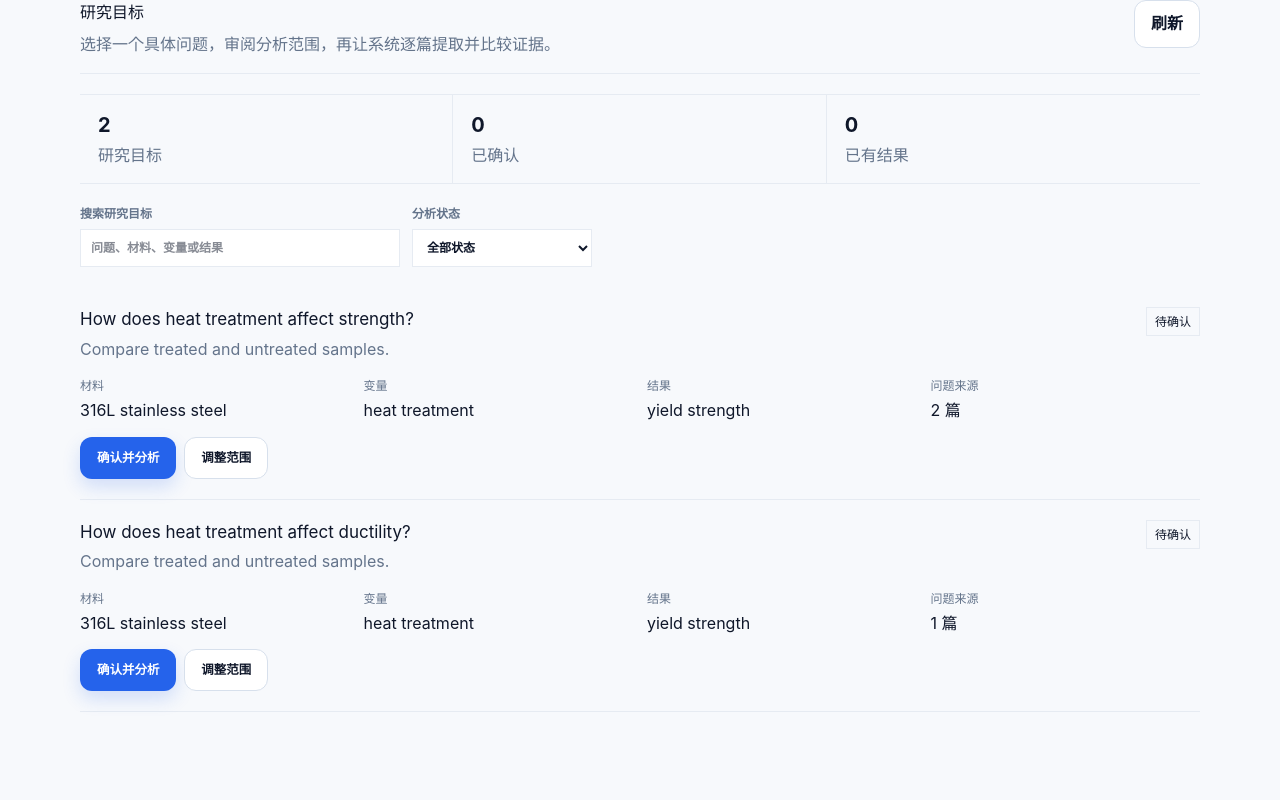
it: collections/[id]/objectives/+page.svelte › edits only one Objective paper scope with searchable bounded results
Click the button "调整范围" below "How does heat treatment affect strength?": [226, 458] box left=184, top=437, right=268, bottom=479
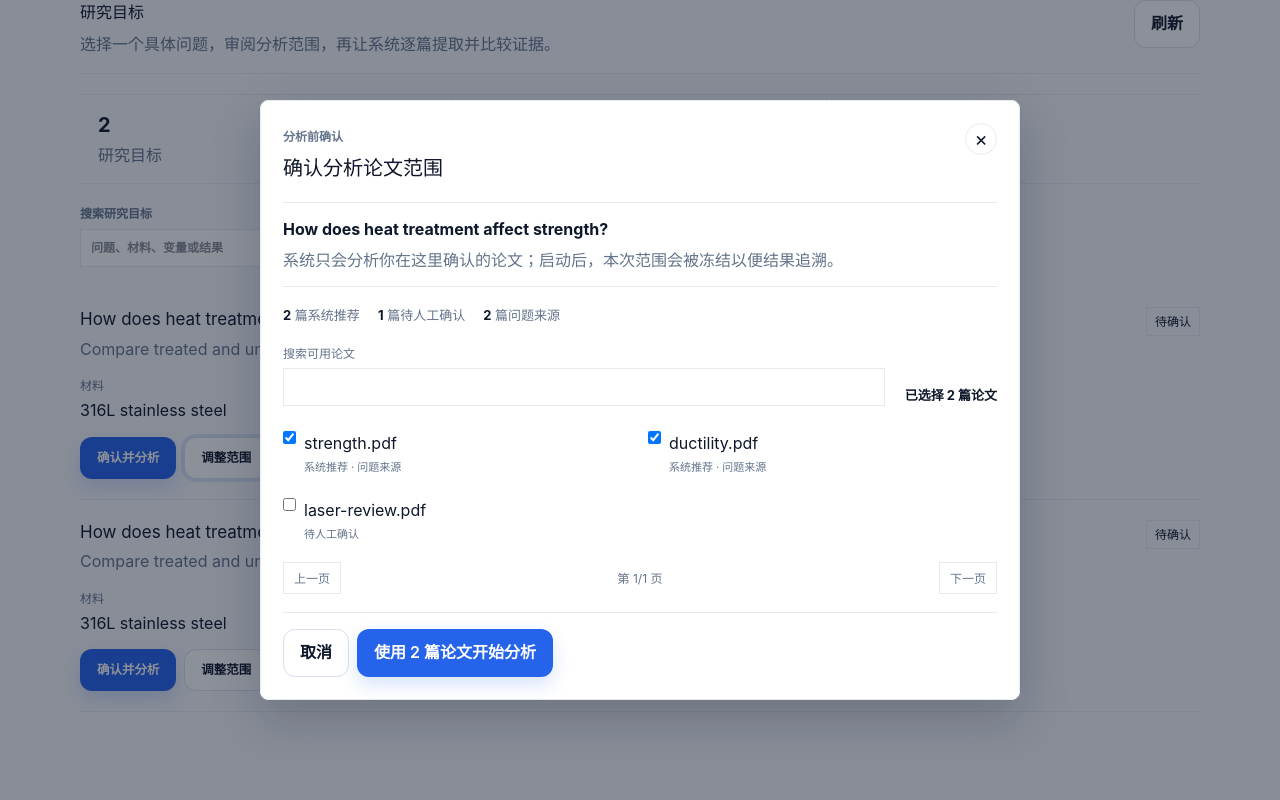
In the search field labelled "搜索可用论文": [584, 387] box left=283, top=368, right=885, bottom=406, type "laser"
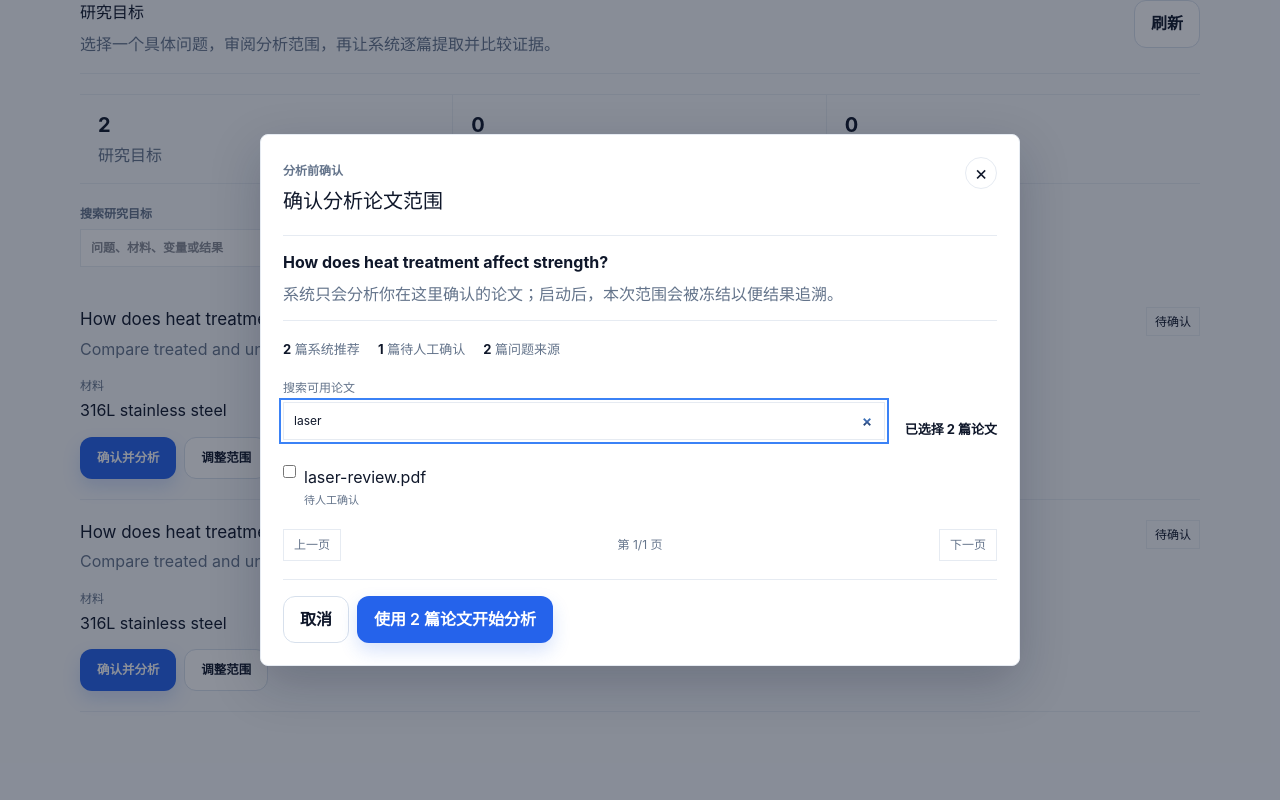
Check: the text "待人工确认" is shown, box left=304, top=493, right=359, bottom=507
Click the checkbox labelled "laser-review.pdf 待人工确认": [290, 471] box left=283, top=465, right=296, bottom=478
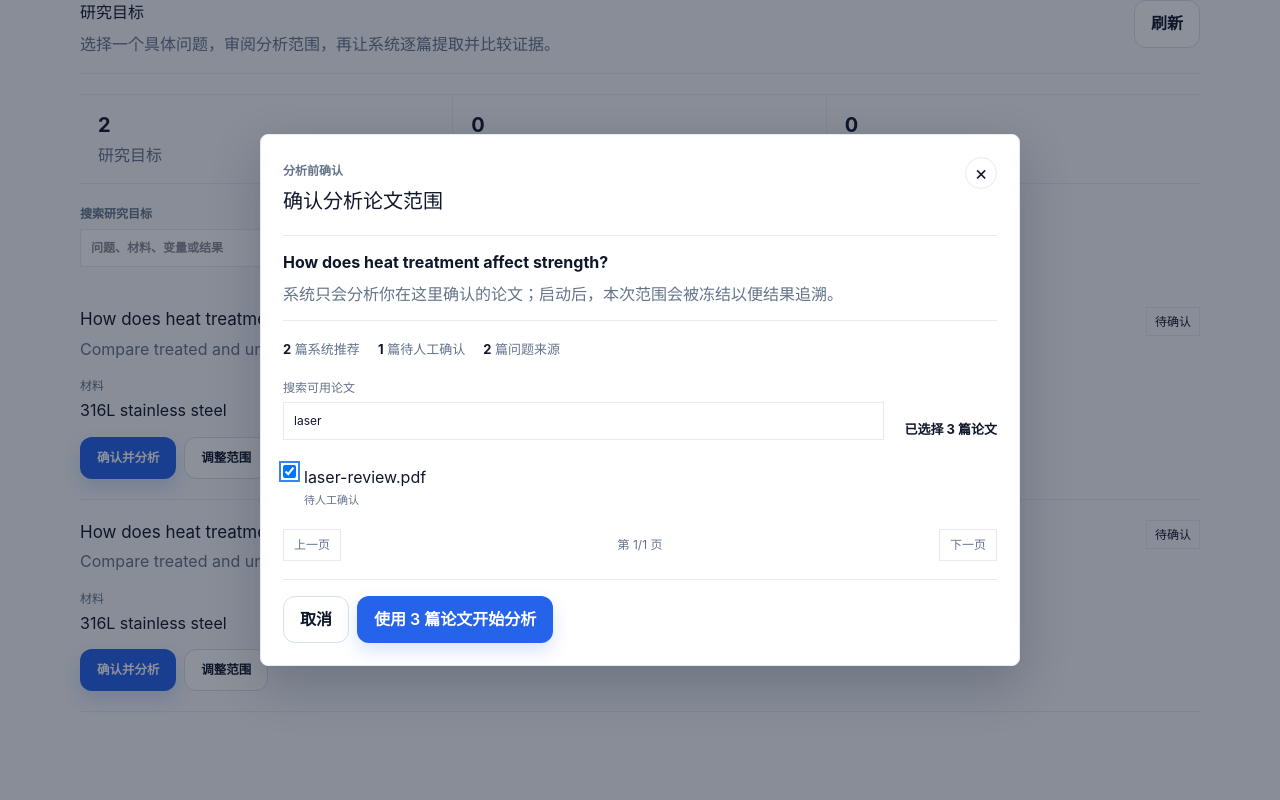
Check: the text "已选择 3 篇论文" is shown, box left=904, top=419, right=997, bottom=440
Click the button "使用 3 篇论文开始分析": [455, 620] box left=357, top=596, right=553, bottom=644
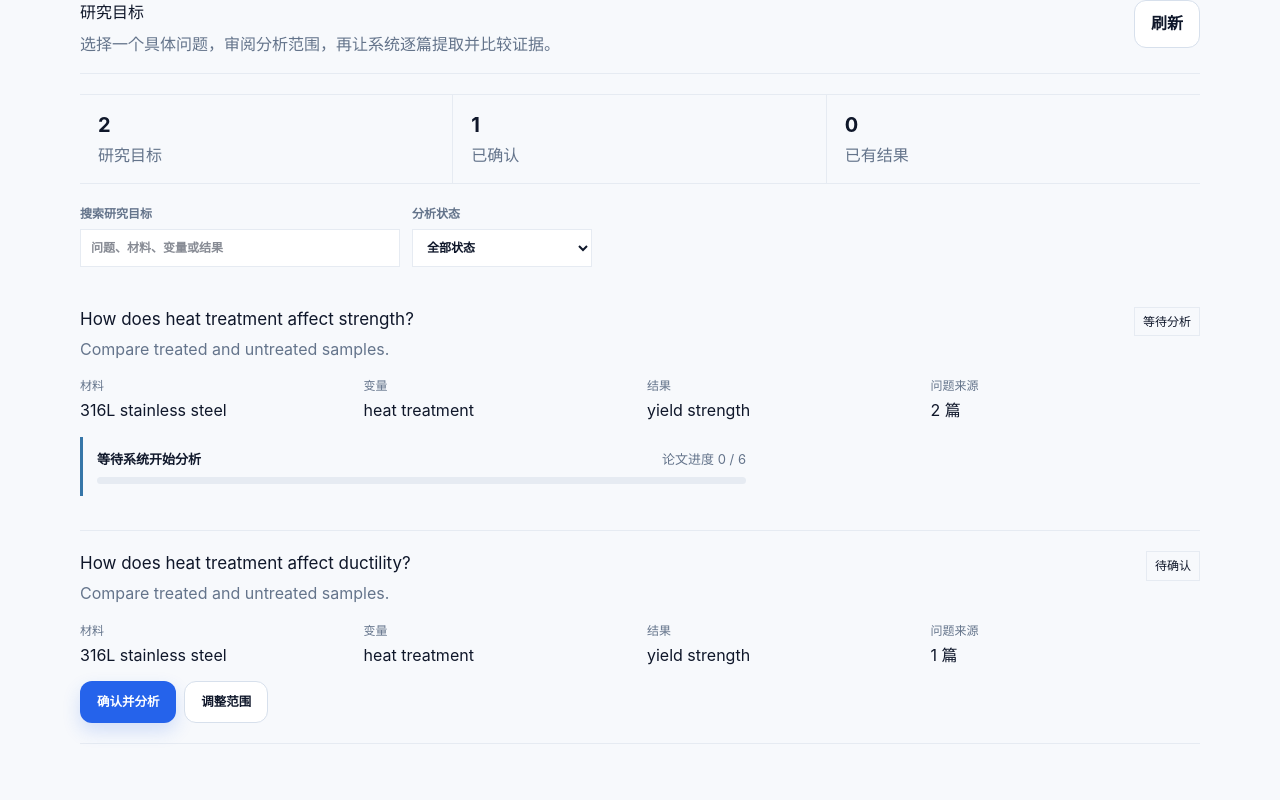
Check: the text "等待系统开始分析" is shown, box left=97, top=449, right=201, bottom=469
